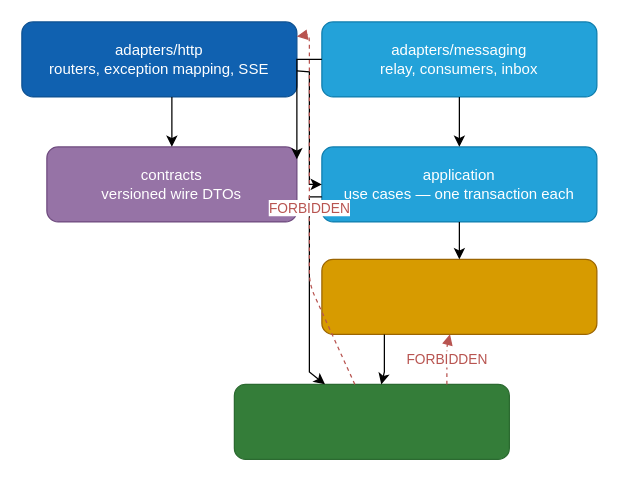
Some shapes in this 619 by 481 pixel diagram are drawn without their labels. The centre of each missing label's shape, as x and y in pixels:
adapters/db SQLAlchemy, repositories, UoW: point (459, 296)
domain entities, value objects, FSM, ports: point (371, 421)
